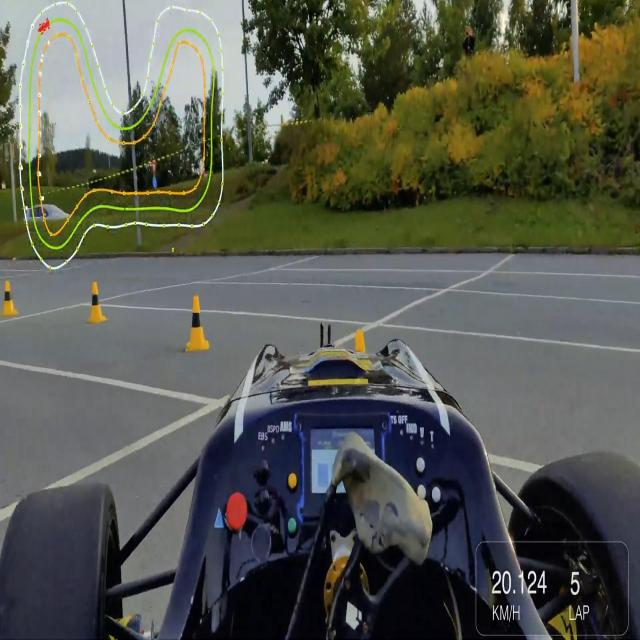yellow_cone: (186, 295, 208, 352), (85, 280, 107, 325), (1, 279, 19, 318)
